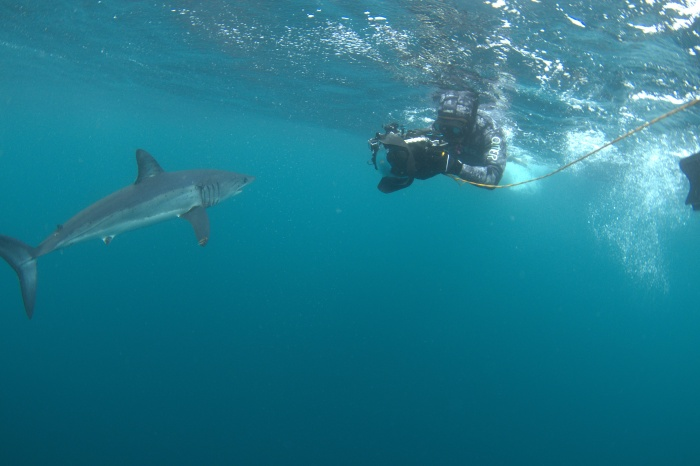Mako: (1, 136, 268, 327)
